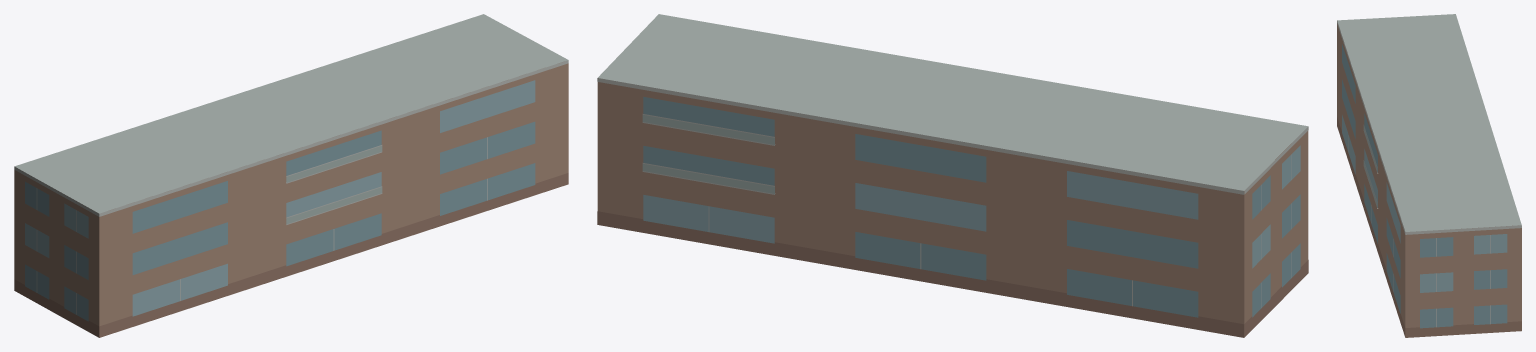
File: survey-upis-32642832.glb
3 renders of one model, left to right at view 1: azimuth 30°, elevation 25°; view 2: azimuth 150°, elevation 25°; view 3: azimuth 270°, elevation 25°, orthographic. The views are drawn at different scales.
Visible parts, largest first — view 1: survey-upis-32642832.tmp; view 2: survey-upis-32642832.tmp; view 3: survey-upis-32642832.tmp.
Part boxes in pixels (x1,y1,x2,y2): survey-upis-32642832.tmp: (14, 14, 568, 337); survey-upis-32642832.tmp: (597, 14, 1308, 337); survey-upis-32642832.tmp: (1337, 14, 1521, 337).
Bounding box in the file's own units: 40.44 × 9.15 × 14.48.
